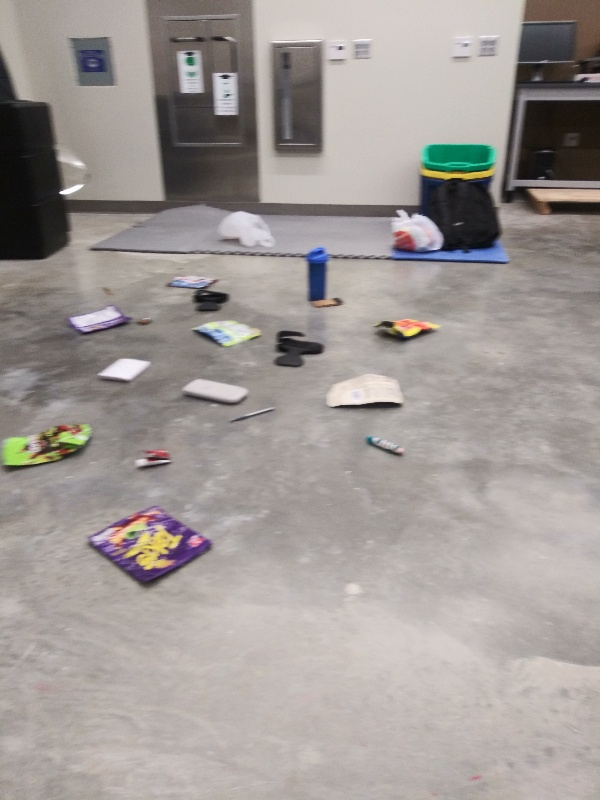bag: (85, 502, 218, 586), (1, 420, 93, 474), (321, 373, 407, 411), (185, 316, 266, 349), (62, 306, 134, 337), (368, 314, 445, 341), (161, 274, 222, 291)
